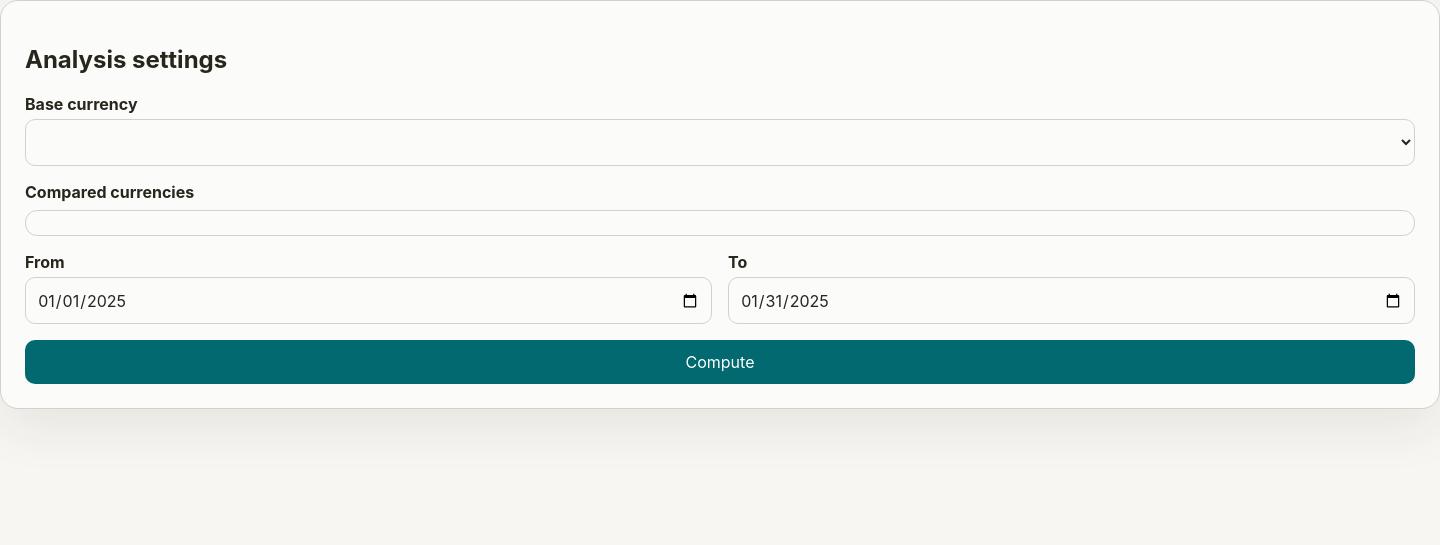
Test case: AnalysisForm › shows translated generic error on non-429 failure
Click the button "Compute": [720, 362] box [25,340,1415,384]
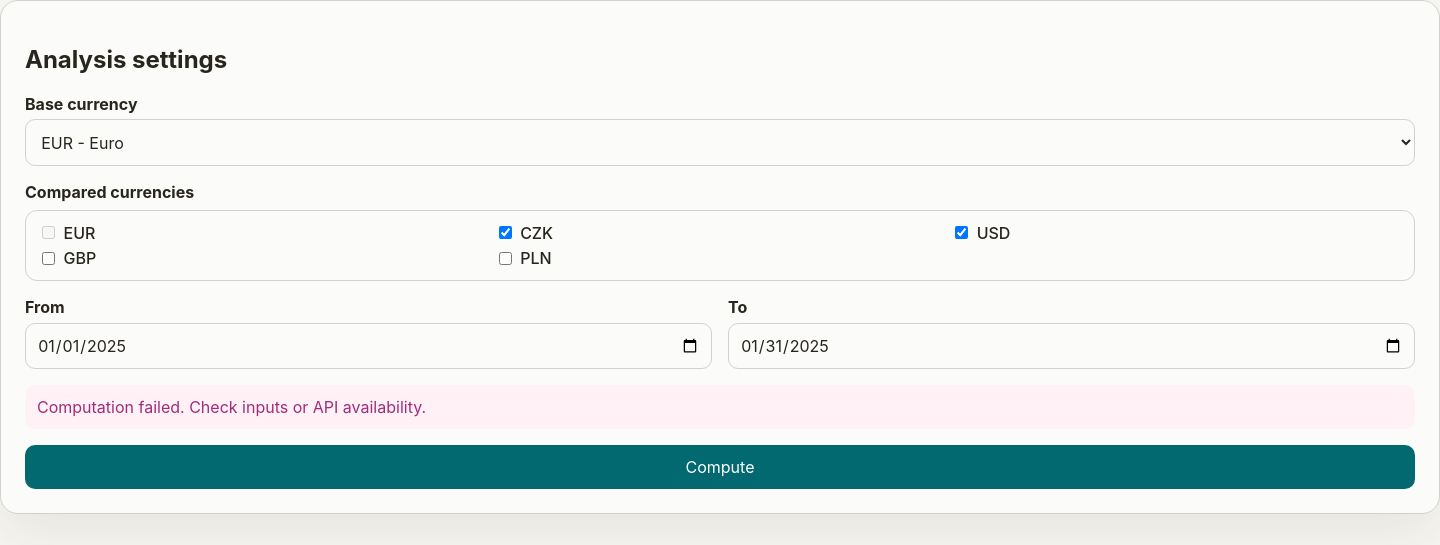
Expected: the text "Computation failed. Check inputs or API availability." is shown, [25,385,1415,429]
